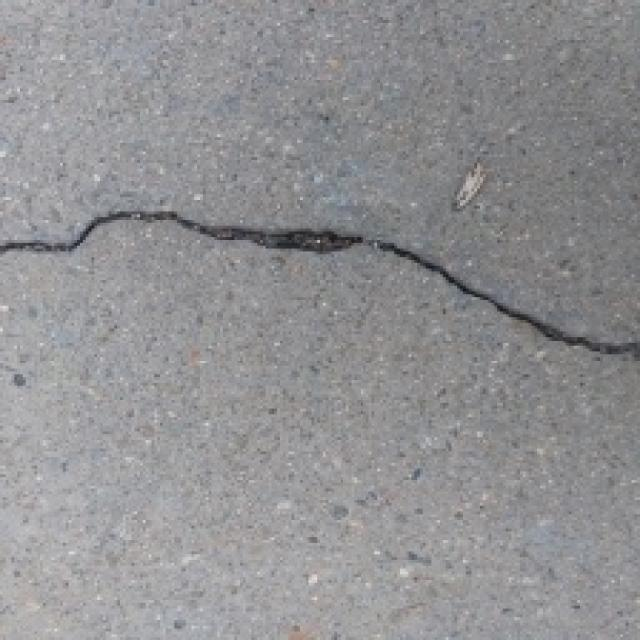crack: (0, 180, 640, 384)
